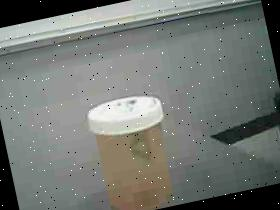Bottle B: (80, 87, 187, 210)
